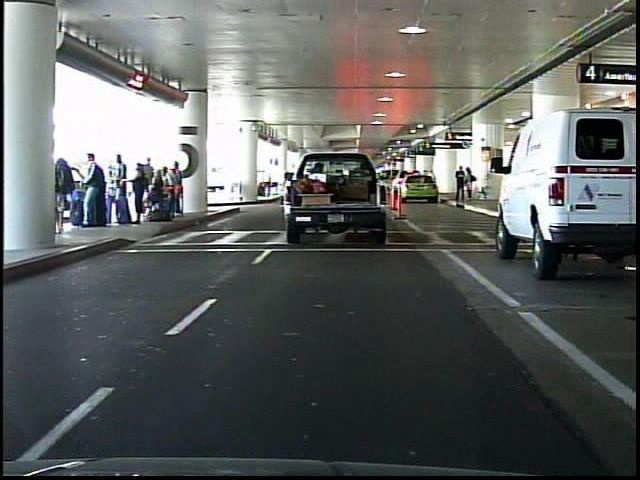person: (465, 165, 478, 203), (454, 165, 466, 202)
